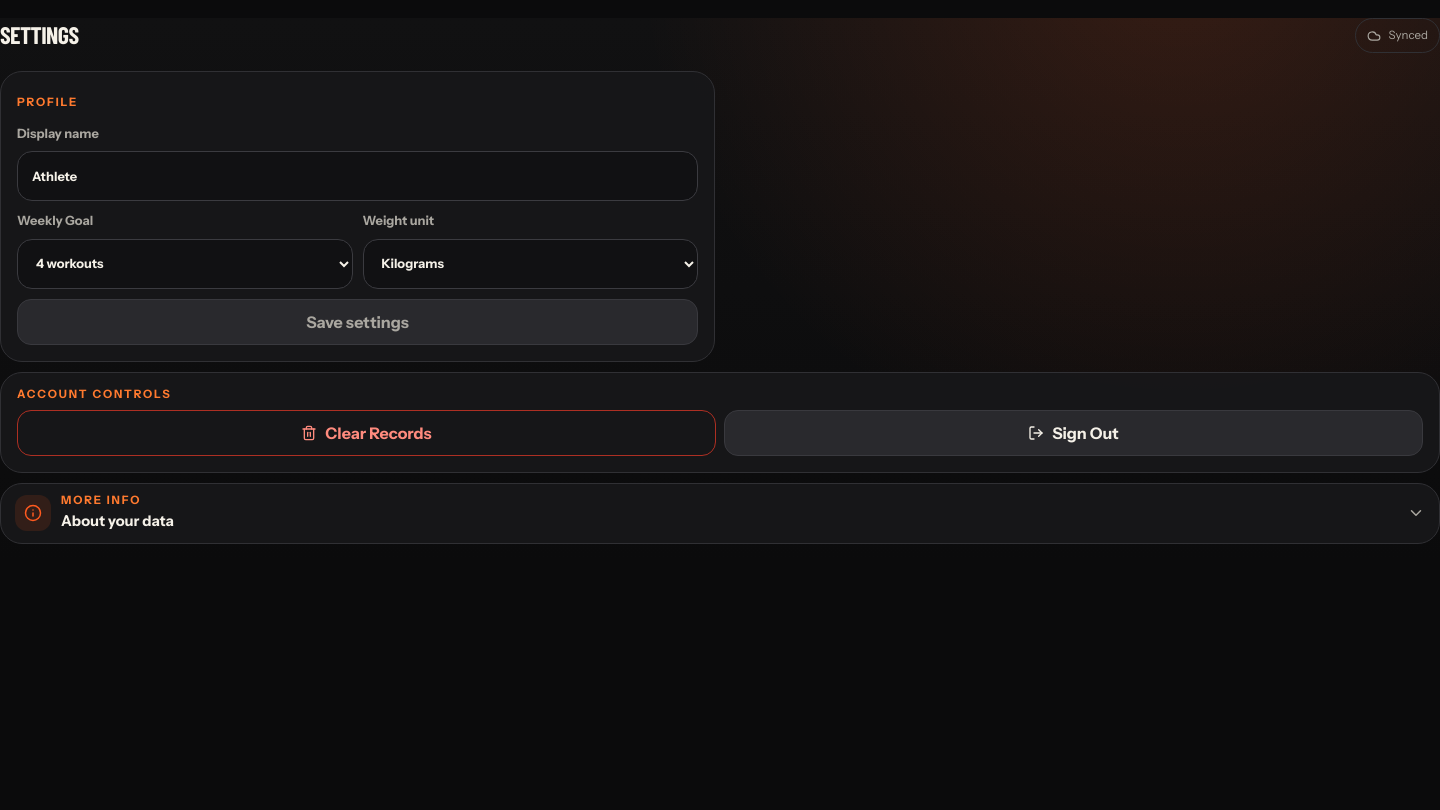
Scenario: SettingsScreen account controls › blocks sign out when local changes could not be synchronized
This screenshot has width=1440, height=810.
Click the button "Sign Out". click: (1074,433)
box: left=724, top=410, right=1423, bottom=456
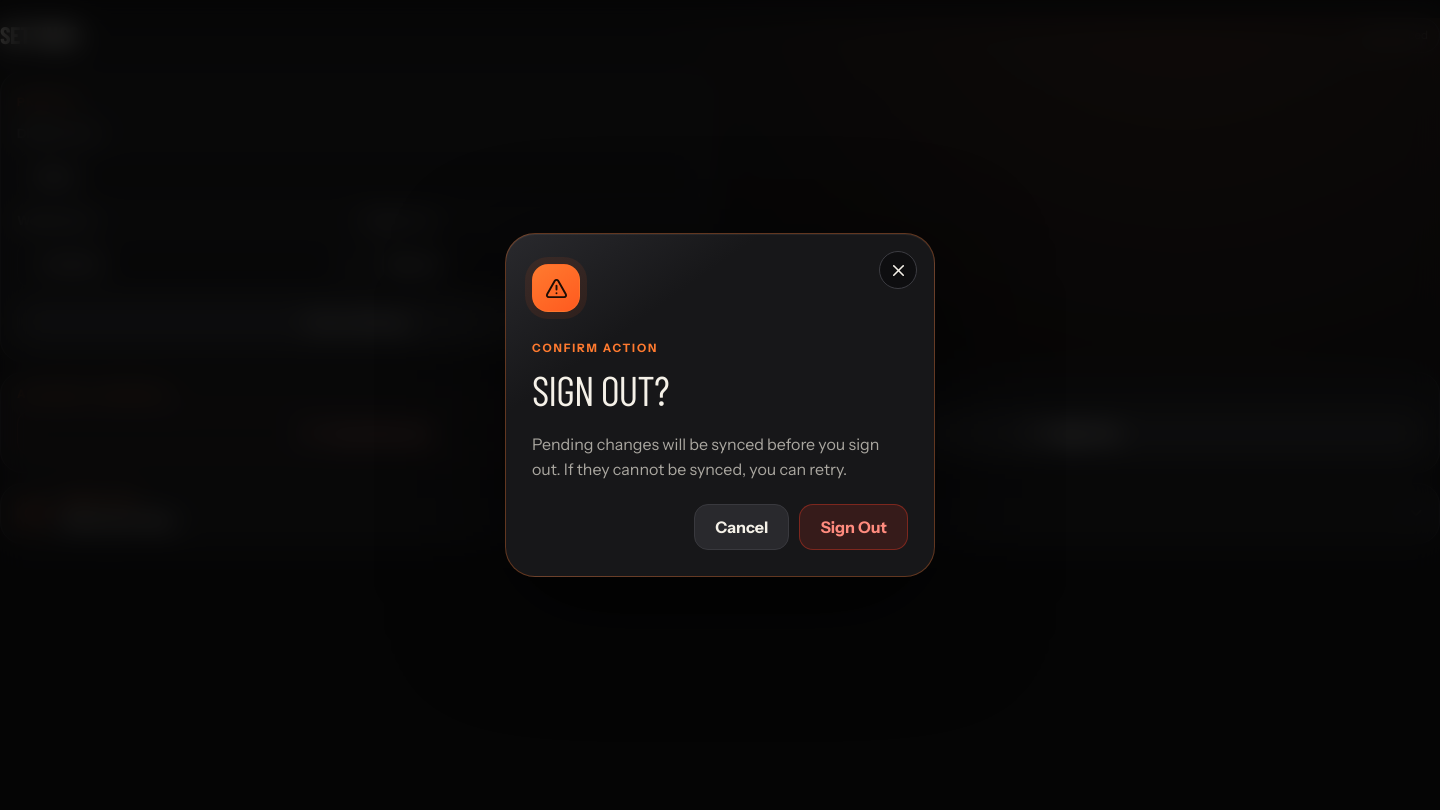
Click the button "Sign Out". click: (854,527)
box: left=799, top=504, right=908, bottom=550
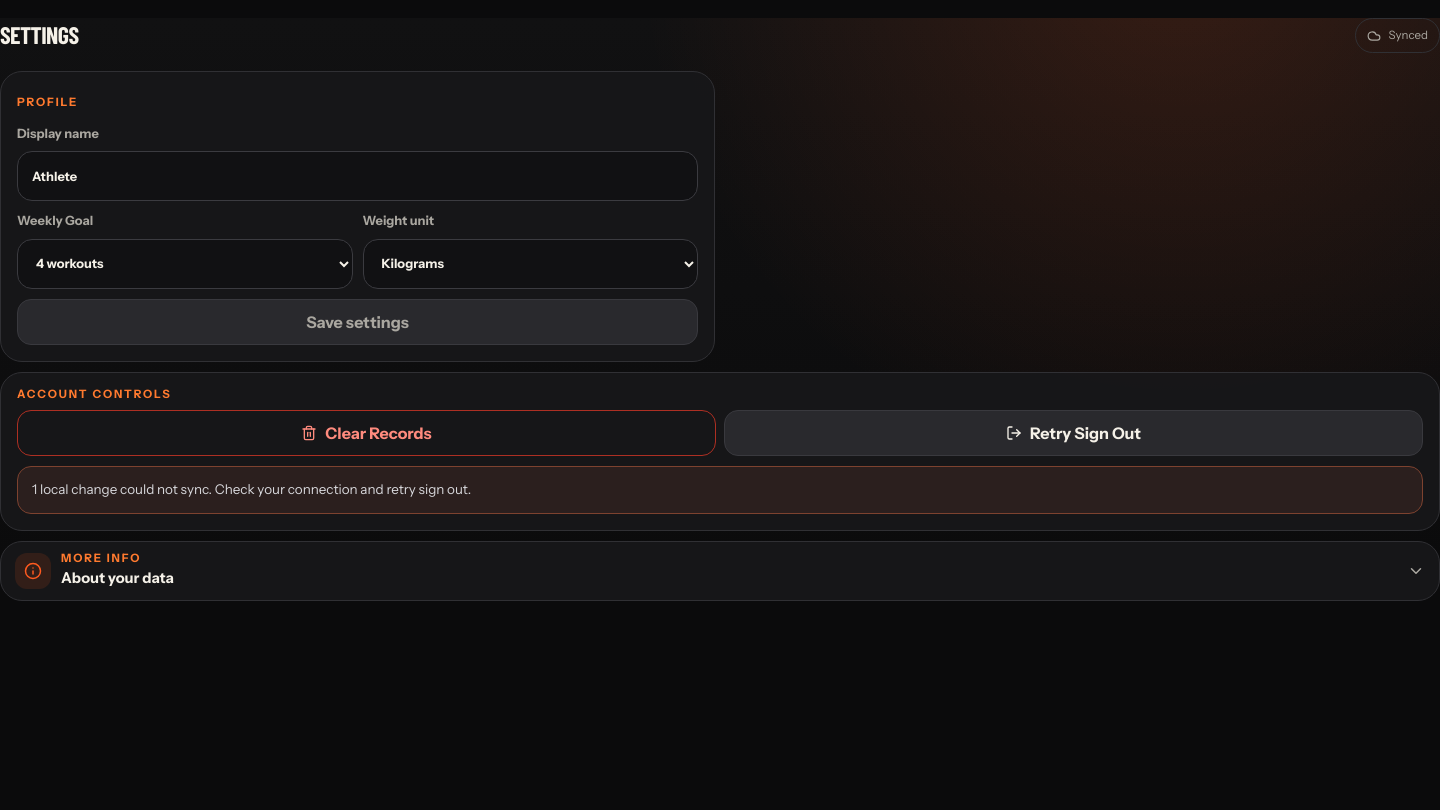
expect the message shows "1 local change could not sync": met, box left=32, top=481, right=471, bottom=497
